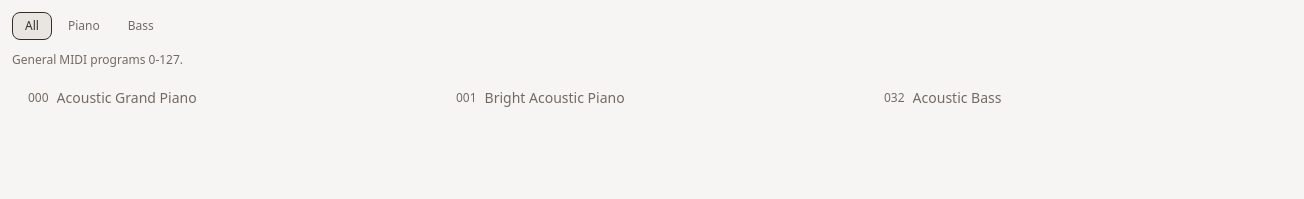
Test: InstrumentBrowser › shows the Store hint when the audition fails (no SoundFont)
The width and height of the screenshot is (1304, 199).
Click the button "032 Acoustic Bass".
click(957, 98)  # box [868, 80, 1292, 116]
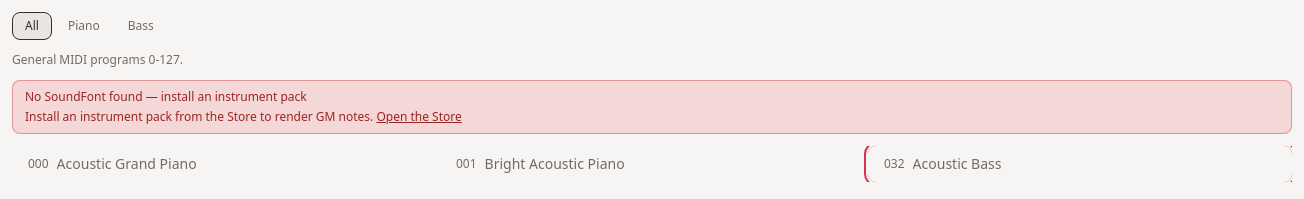
Expected: the text "No SoundFont found — install an instrument pack" is shown, [25, 88, 307, 105]
